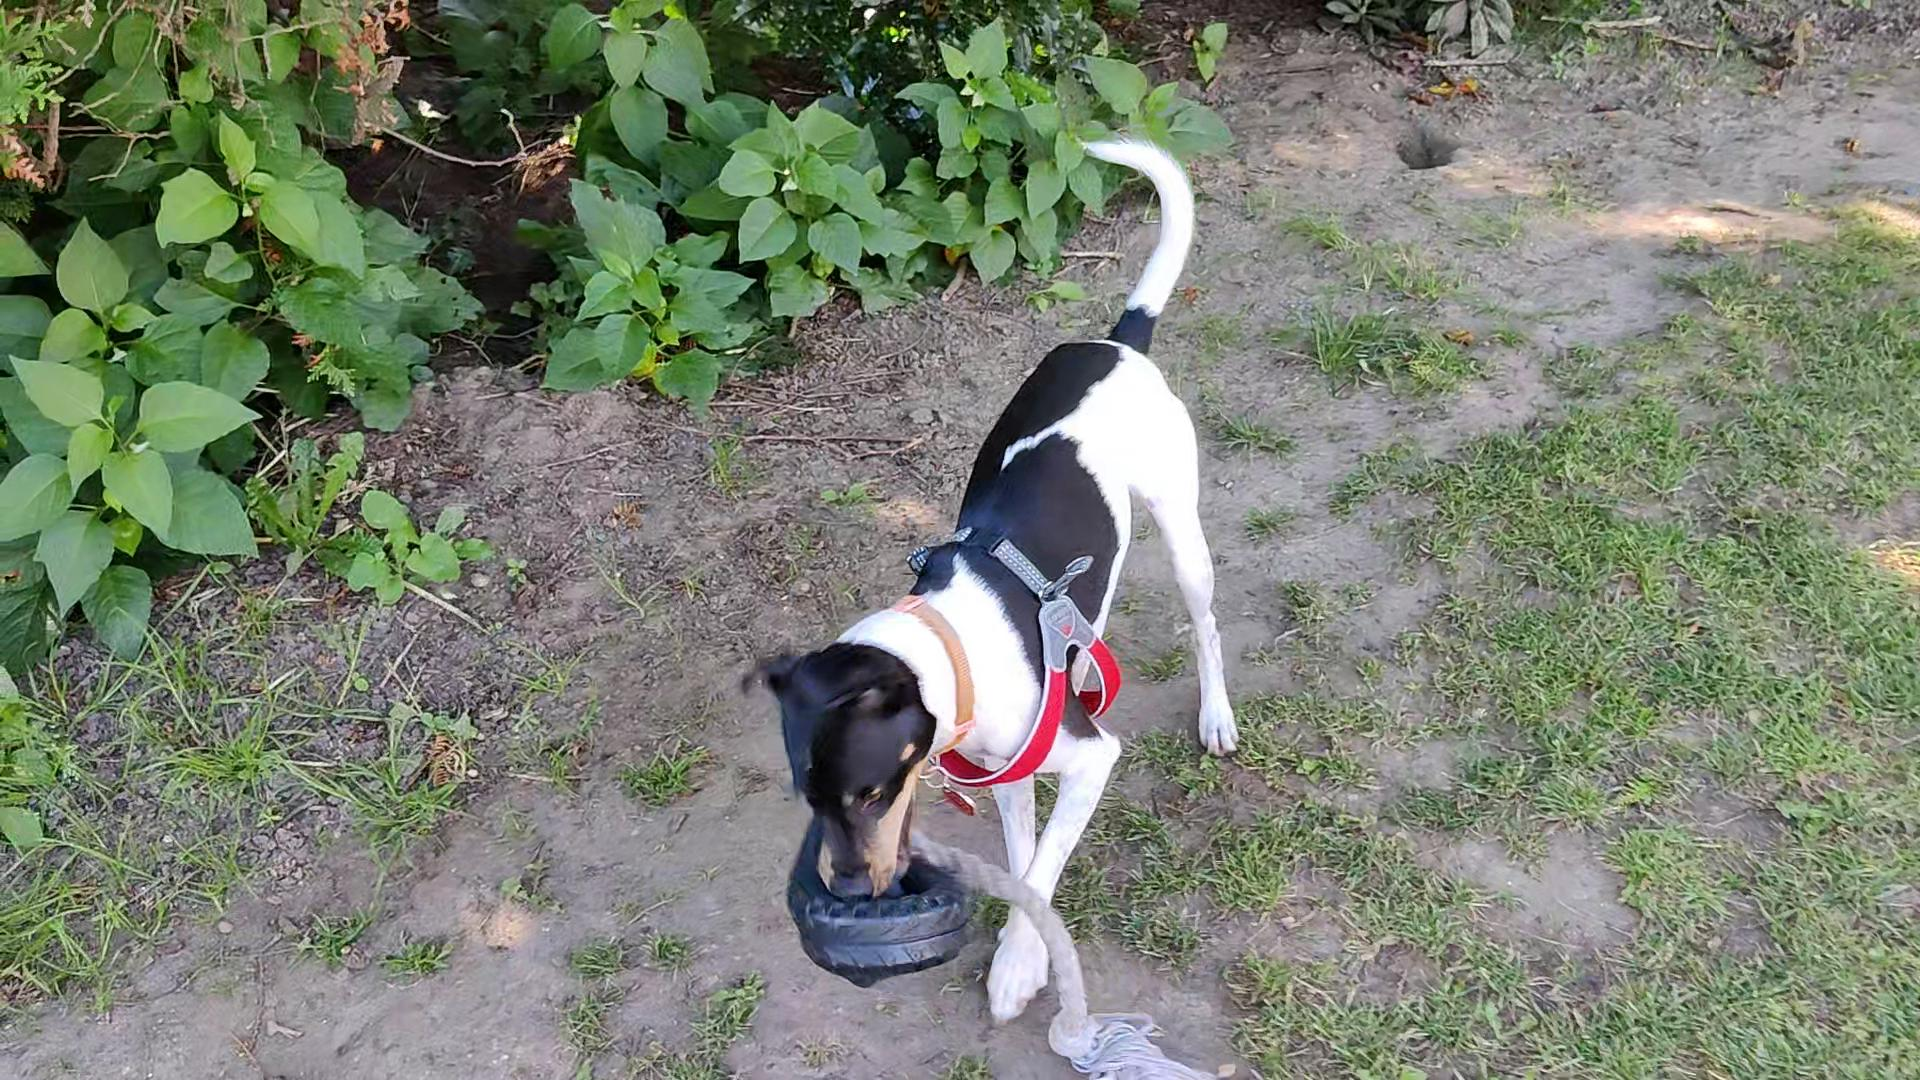Dog: (731, 123, 1249, 1031)
